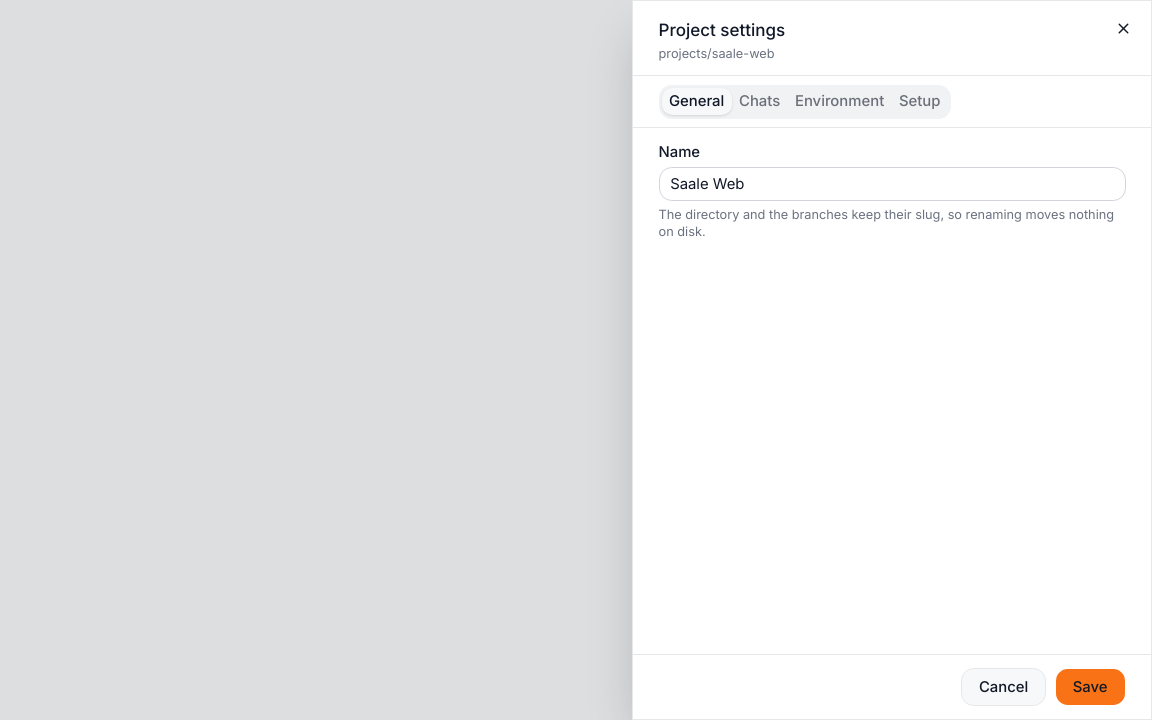
Scenario: ProjectSettingsSheet › loads the project's current settings
Expected: the field showing "Saale Web" is shown, x1=658 y1=167 x2=1126 y2=201
What coordinates should you click on to do the following:
click the tab "Chats"
I would click on:
 (760, 102)
Its box is x1=732 y1=88 x2=788 y2=115.
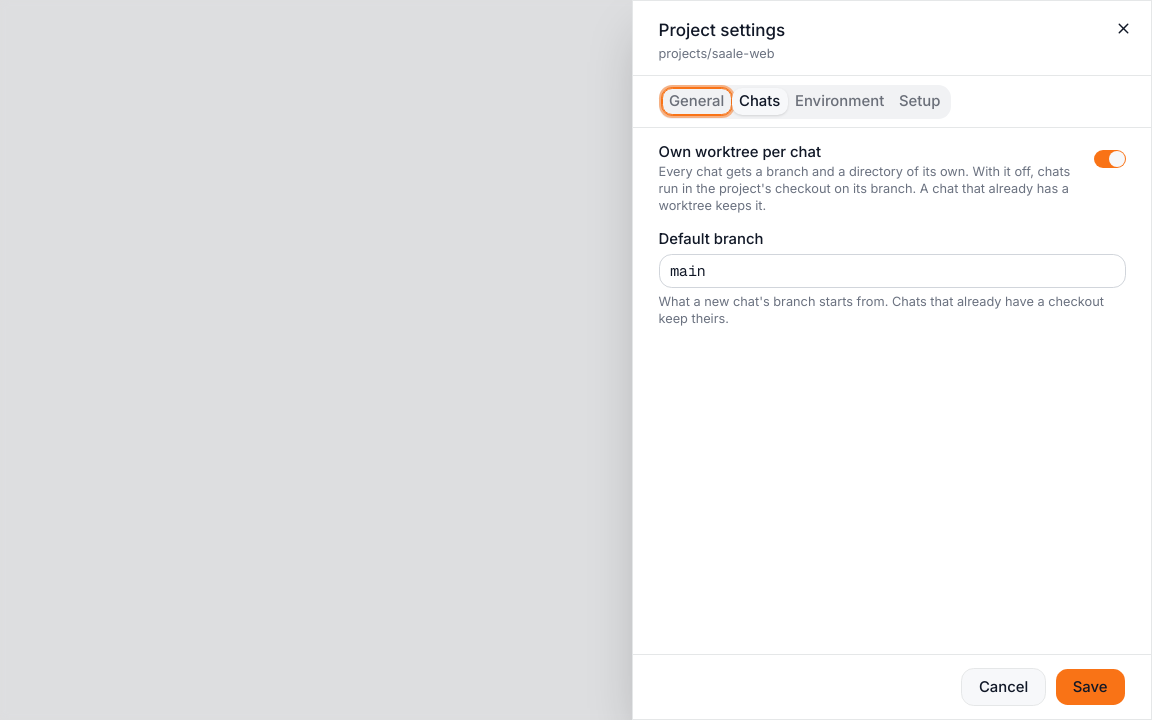
Result: the field showing "main" is shown at x1=658 y1=254 x2=1126 y2=288
